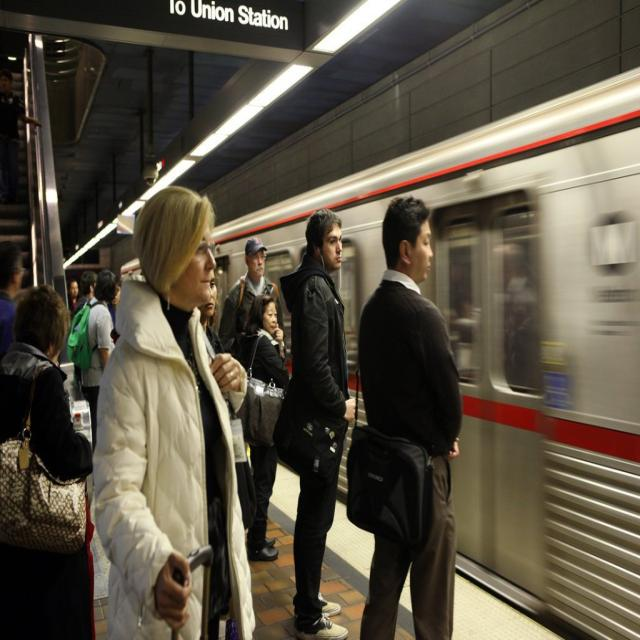body: (90, 183, 260, 639), (344, 193, 464, 639), (0, 284, 95, 639), (272, 207, 350, 639), (230, 292, 290, 562), (216, 236, 286, 360), (80, 268, 118, 452), (0, 66, 42, 208), (0, 240, 31, 359), (71, 270, 99, 386), (192, 276, 220, 340), (106, 276, 124, 331), (67, 280, 79, 314)
